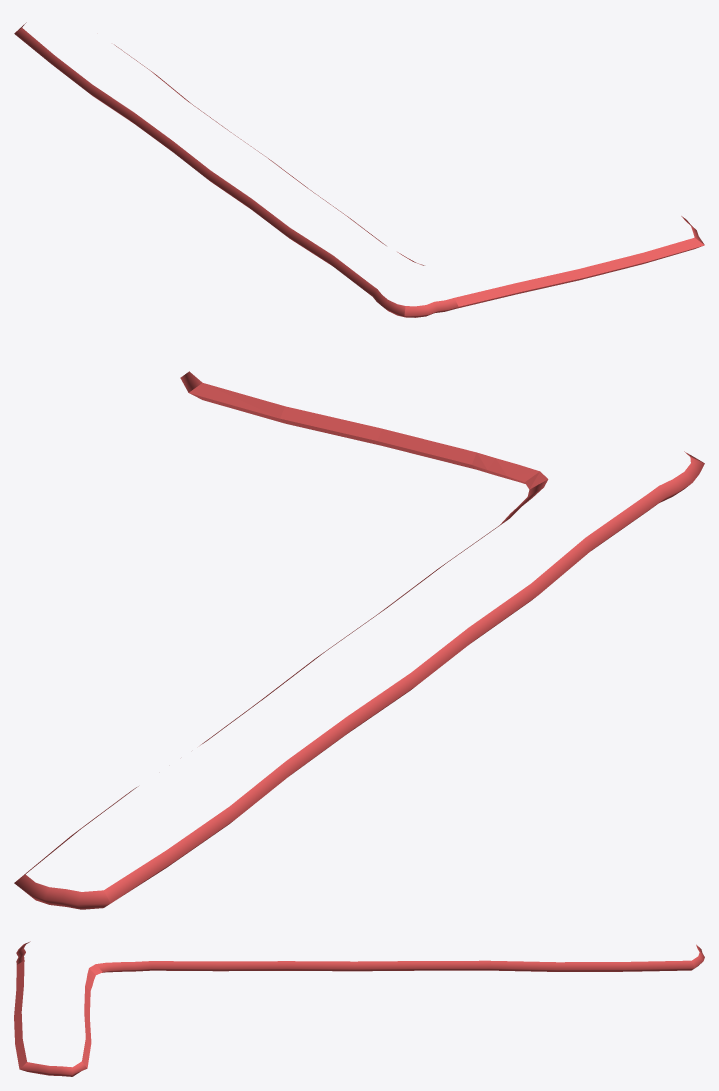
The model's file is test_3_outline.glb.
The picture shows the model from 3 angles, top to bottom: view 1: azimuth 30°, elevation 25°; view 2: azimuth 150°, elevation 25°; view 3: azimuth 270°, elevation 25°; orthographic projection. The views are drawn at different scales.
Parts seen in each view (by area): view 1: Box001; view 2: Box001; view 3: Box001.
Part boxes in pixels (x1=…): Box001: x1=14, y1=22, x2=704, y2=317; Box001: x1=14, y1=371, x2=704, y2=909; Box001: x1=14, y1=941, x2=704, y2=1076.
Size of the model in its own units: 1.48 by 0.051 by 3.22.
